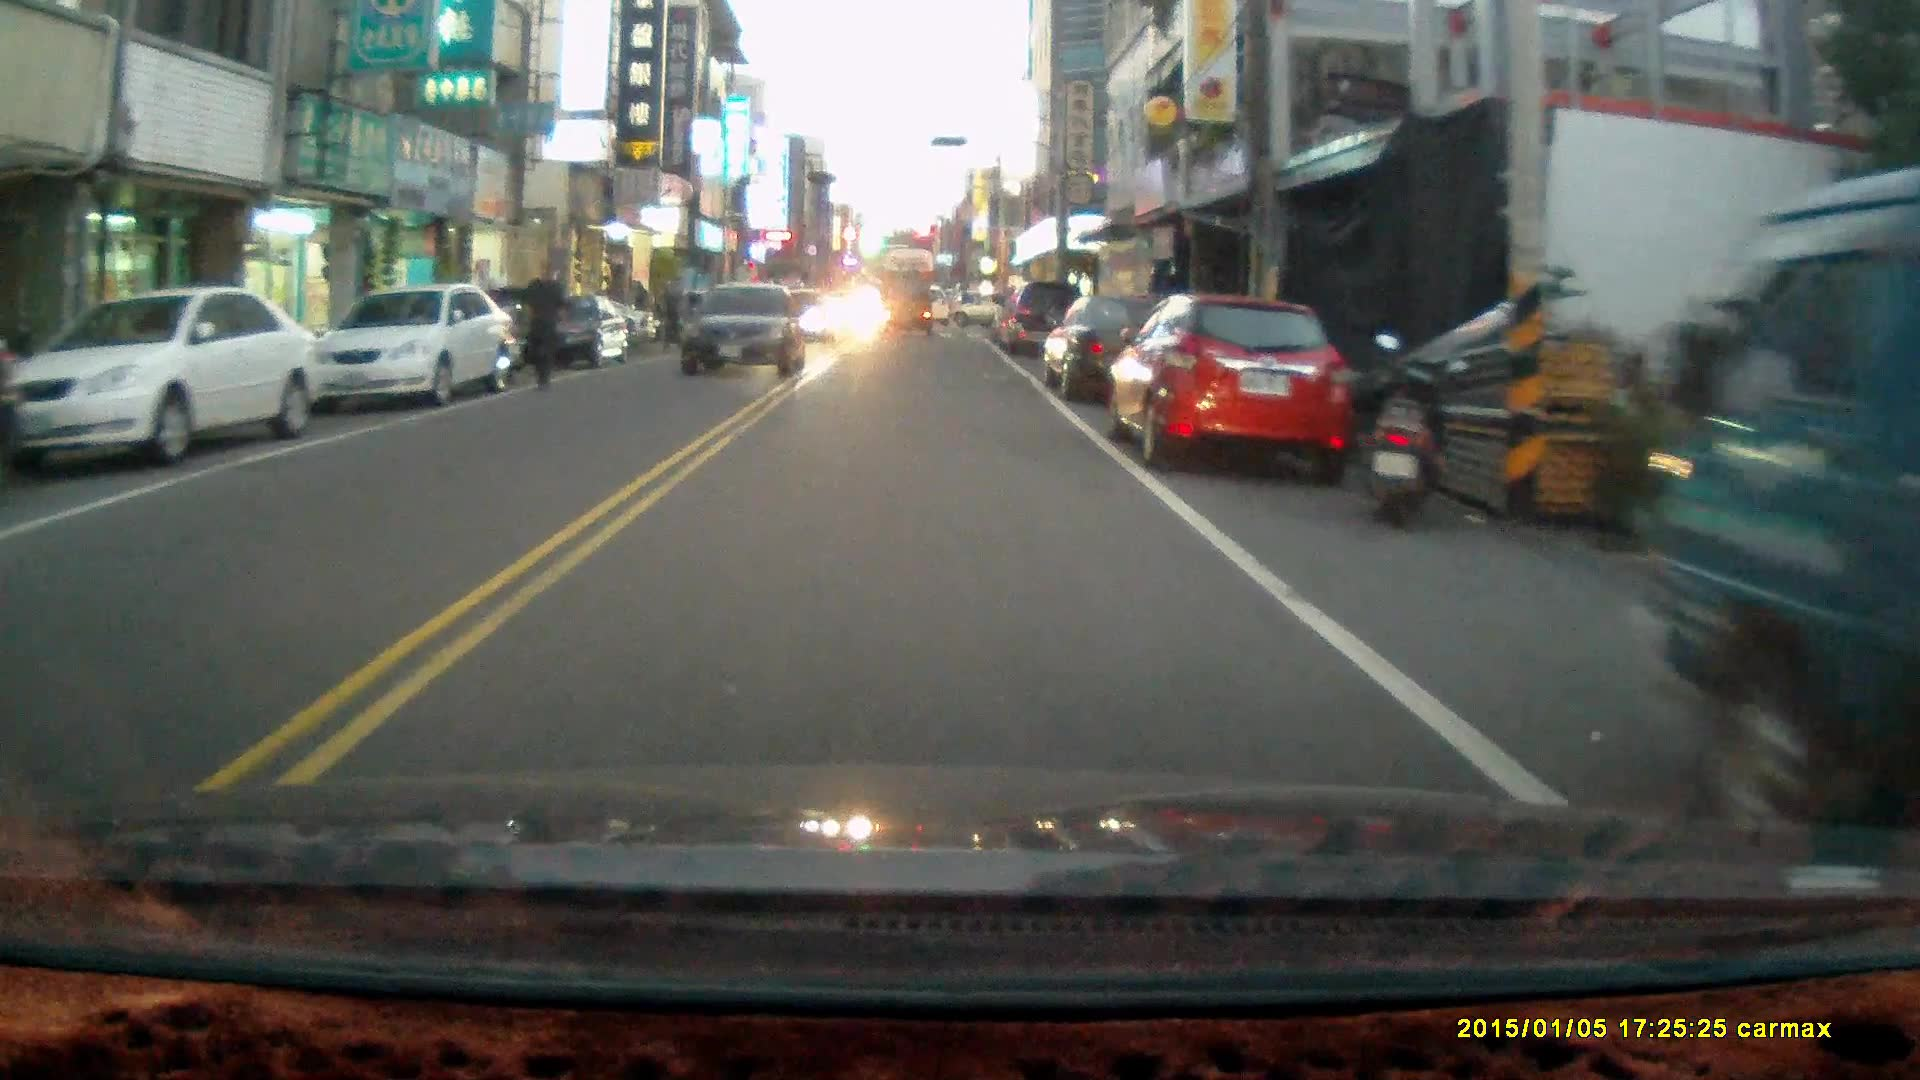pedestrian: (517, 260, 566, 393), (657, 280, 684, 352)
vehicle: (1628, 164, 1920, 863), (6, 288, 315, 467), (1111, 302, 1357, 488), (316, 292, 519, 417), (1036, 298, 1219, 407), (676, 281, 811, 384), (990, 281, 1095, 363), (526, 295, 628, 376), (874, 270, 937, 339)
